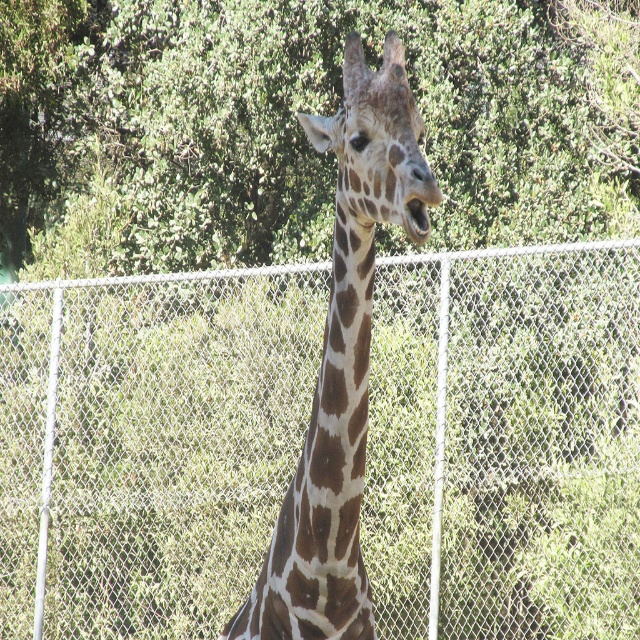Giraffe: (218, 46, 440, 626)
